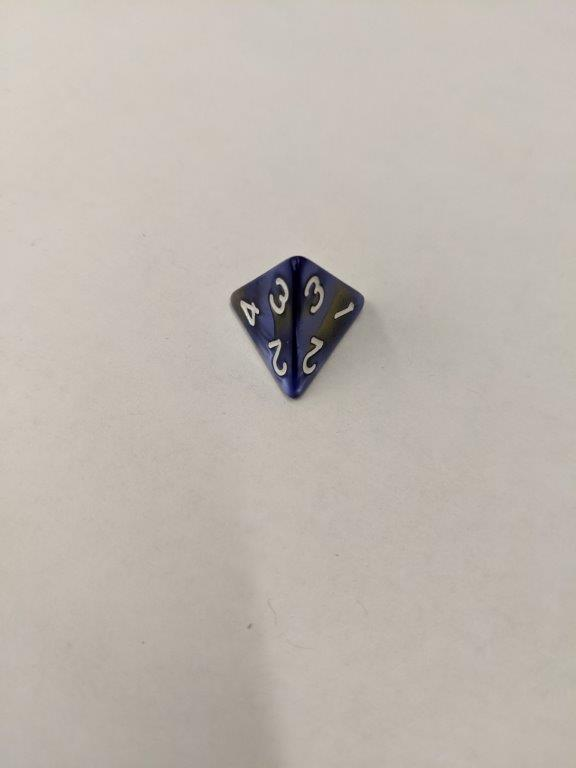d4-3: (231, 252, 365, 407)
